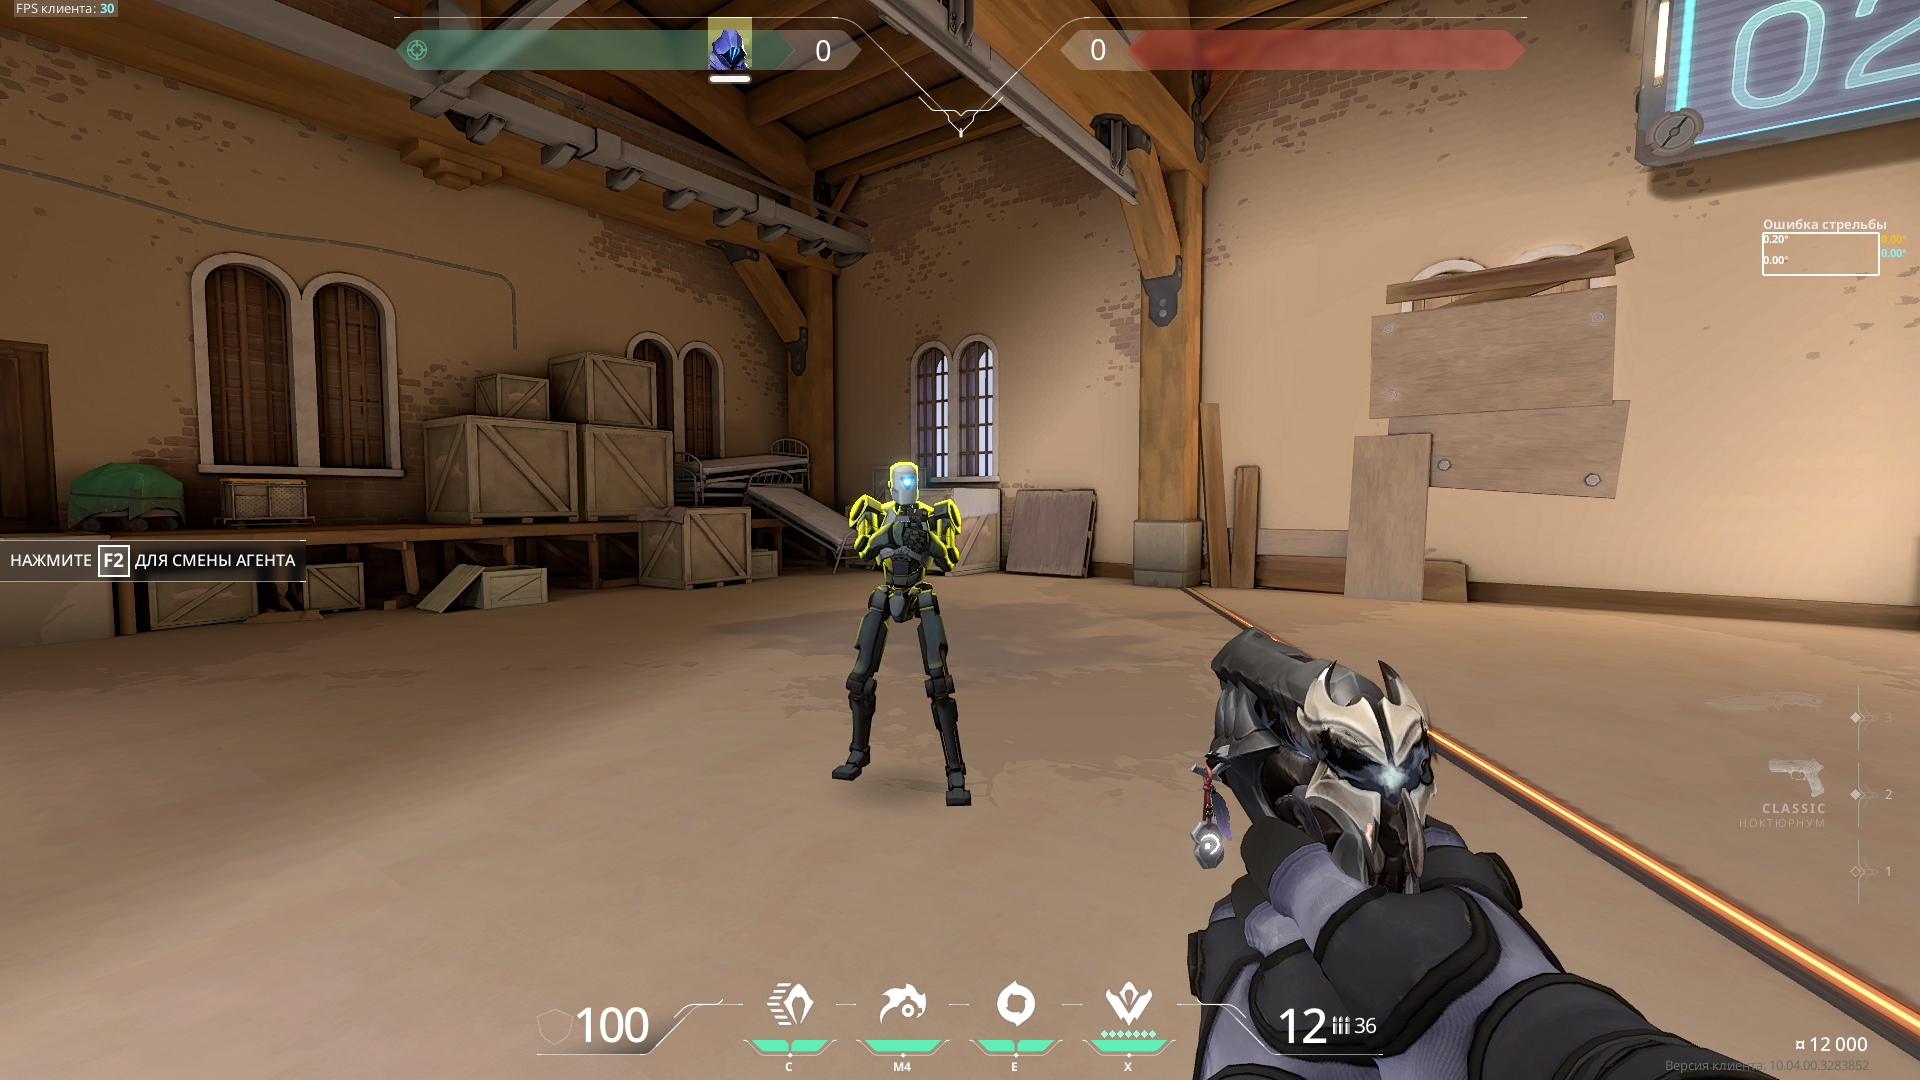head: (888, 461, 919, 505)
